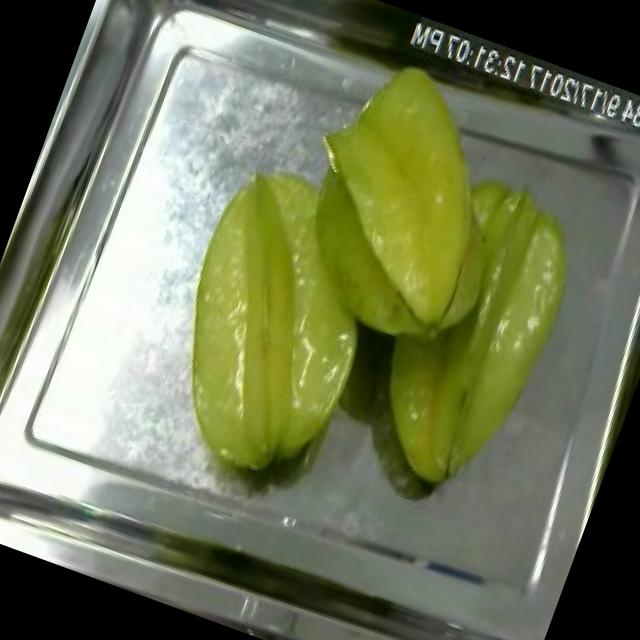fruit: (253, 30, 601, 390), (126, 139, 426, 512), (336, 147, 616, 528)
